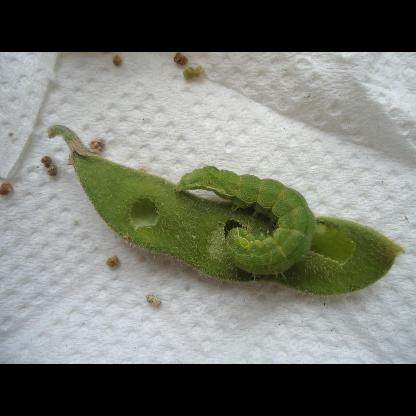agujero: (304, 219, 358, 269), (125, 192, 161, 230)
oruga: (173, 162, 323, 280)
